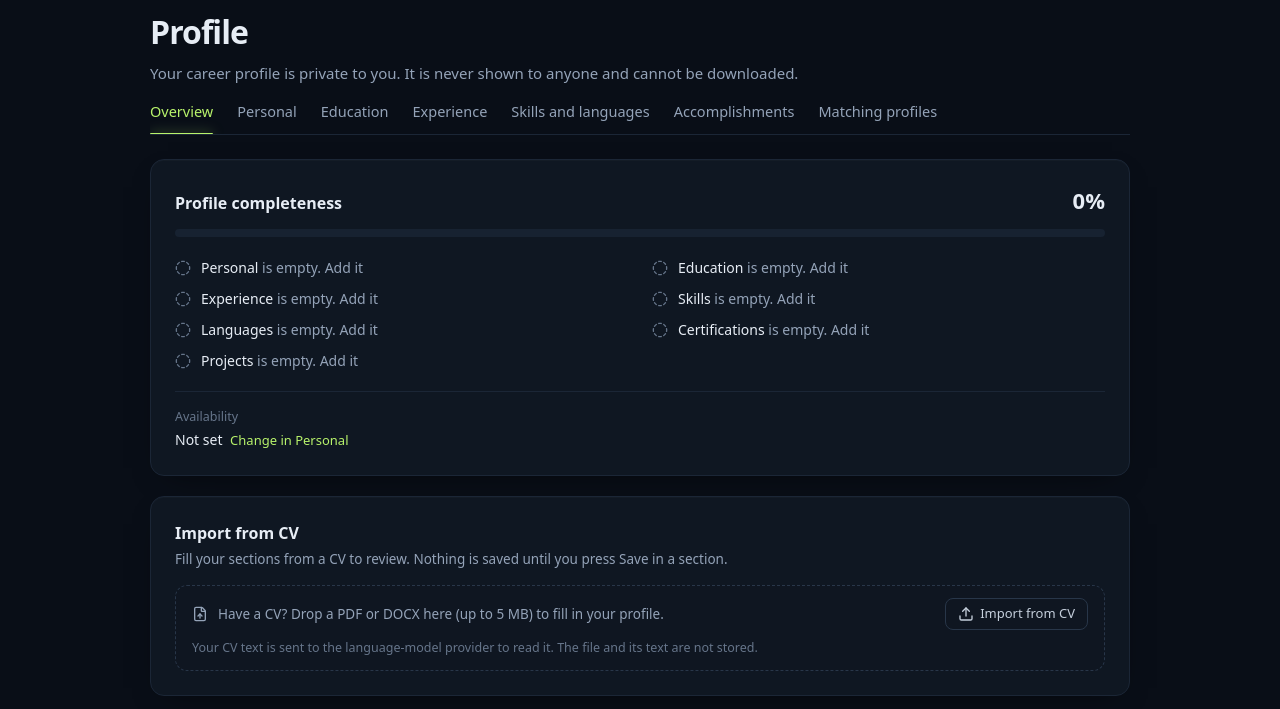
Test: navigation › moves between sections without leaving the layout
Step 1. Click the link "Experience" → (450, 110), box [412,100,487,120]
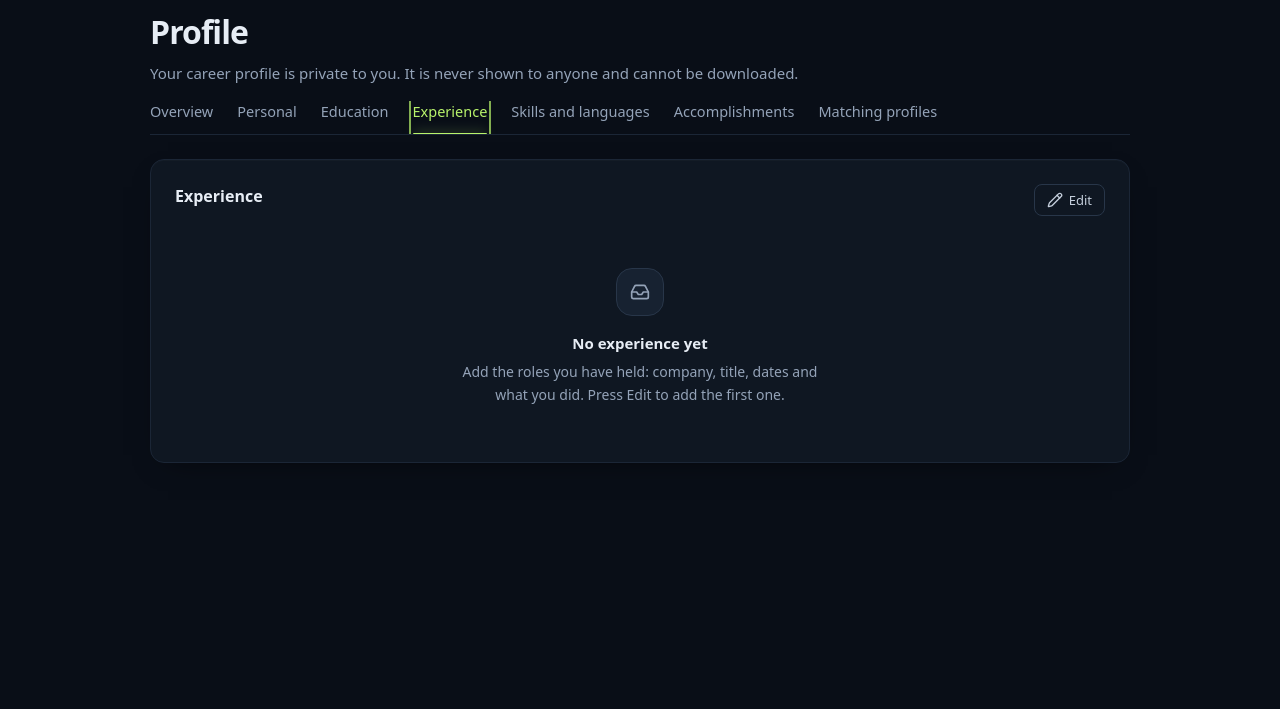
Expected: the text "No experience yet" is shown, [572,332,708,355]
Step 2. Click the link "Accomplishments" → (734, 110), box [674,100,794,120]
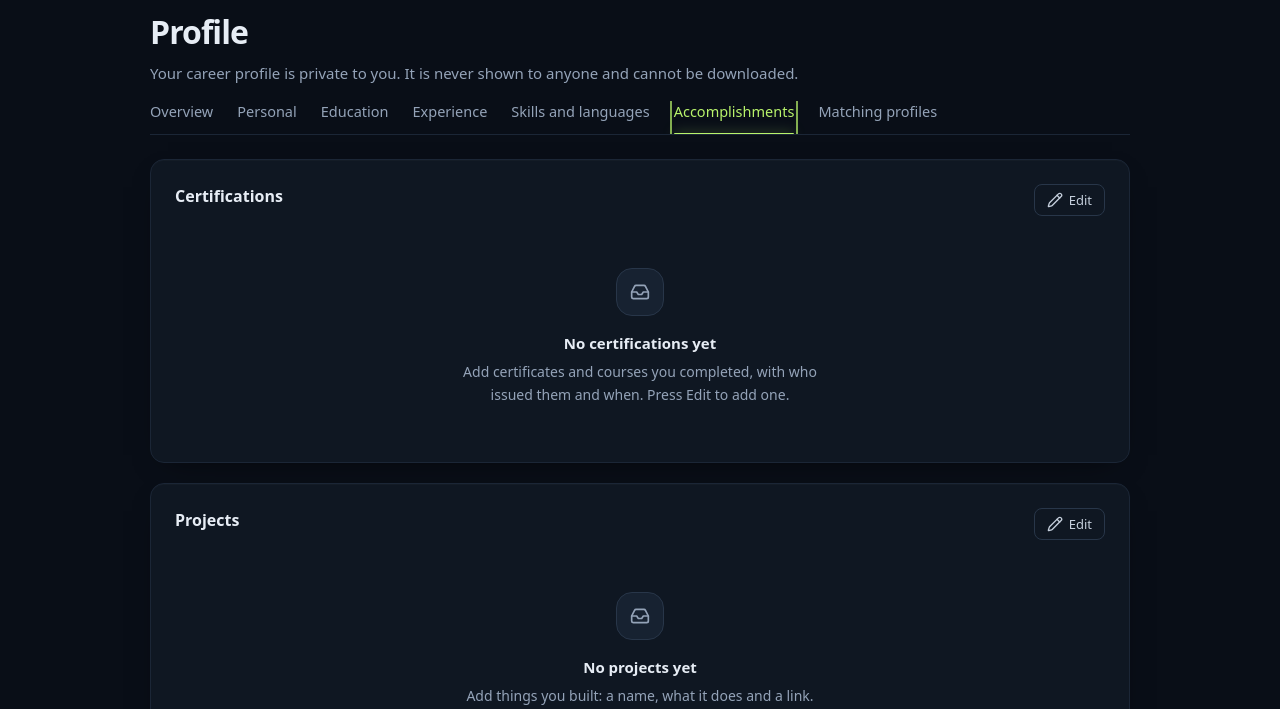
Expected: the text "No certifications yet" is shown, [564,332,716,355]
Expected: the text "No projects yet" is shown, [583,656,697,679]
Step 3. Click the link "Matching profiles" → (878, 110), box [818,100,937,120]
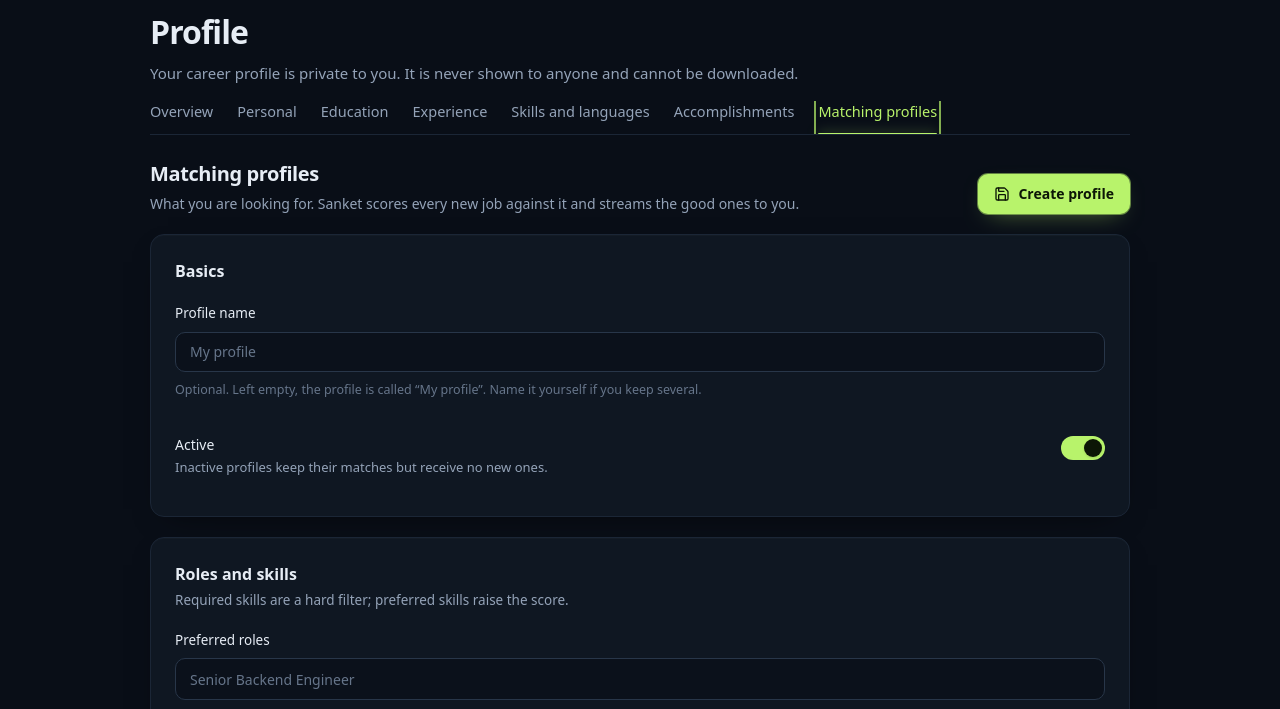
Expected: the heading "Profile" is shown, [150,10,248,53]
Expected: the heading "Matching profiles" is shown, [150,160,319,187]
